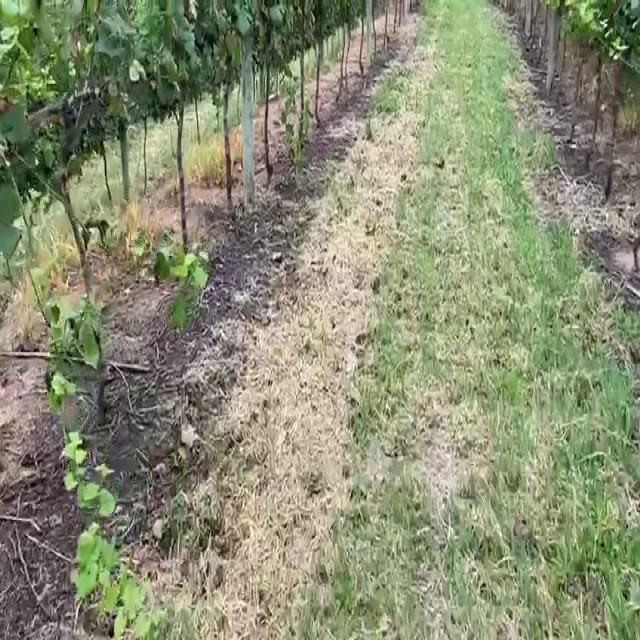tree trunk: (242, 31, 254, 208)
